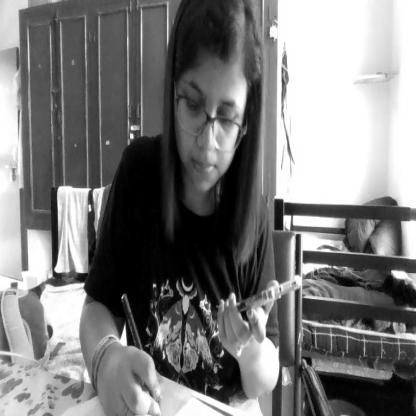Normal: (168, 0, 258, 202)
